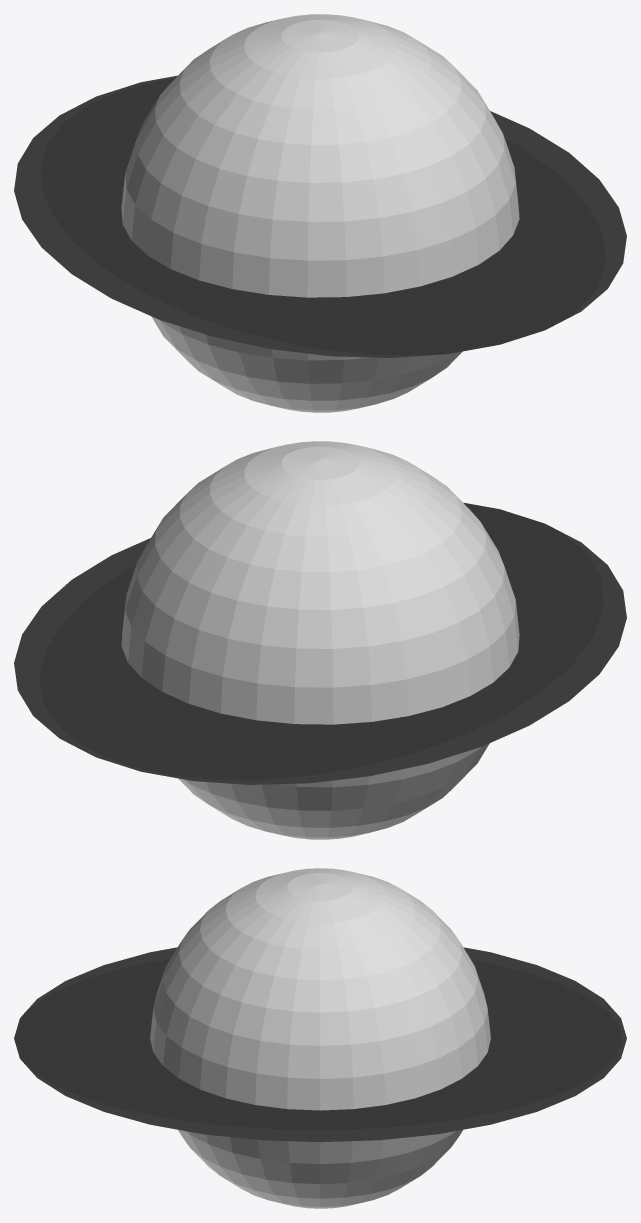
The model's file is gargantua.glb.
3 renders of one model, top to bottom at view 1: azimuth 30°, elevation 25°; view 2: azimuth 150°, elevation 25°; view 3: azimuth 270°, elevation 25°, orthographic. The views are drawn at different scales.
Parts seen in each view (by area): view 1: Sphere, Circle; view 2: Sphere, Circle; view 3: Sphere, Circle.
Boxes of the visible parts, bbox=[...] form: Sphere: bbox=[121, 14, 519, 412]; Circle: bbox=[14, 75, 626, 357]; Sphere: bbox=[121, 441, 519, 839]; Circle: bbox=[14, 502, 626, 784]; Sphere: bbox=[150, 868, 490, 1208]; Circle: bbox=[14, 947, 626, 1142].
Size of the model in its own units: 288 by 200 by 360.
Materials: 2 (1 with a texture image).
